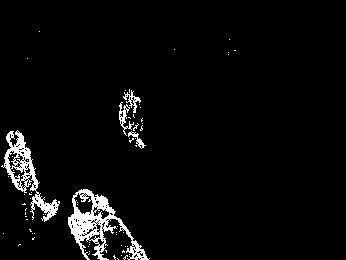person: (4, 131, 59, 220), (91, 193, 151, 260), (67, 187, 104, 260), (118, 86, 148, 152)
